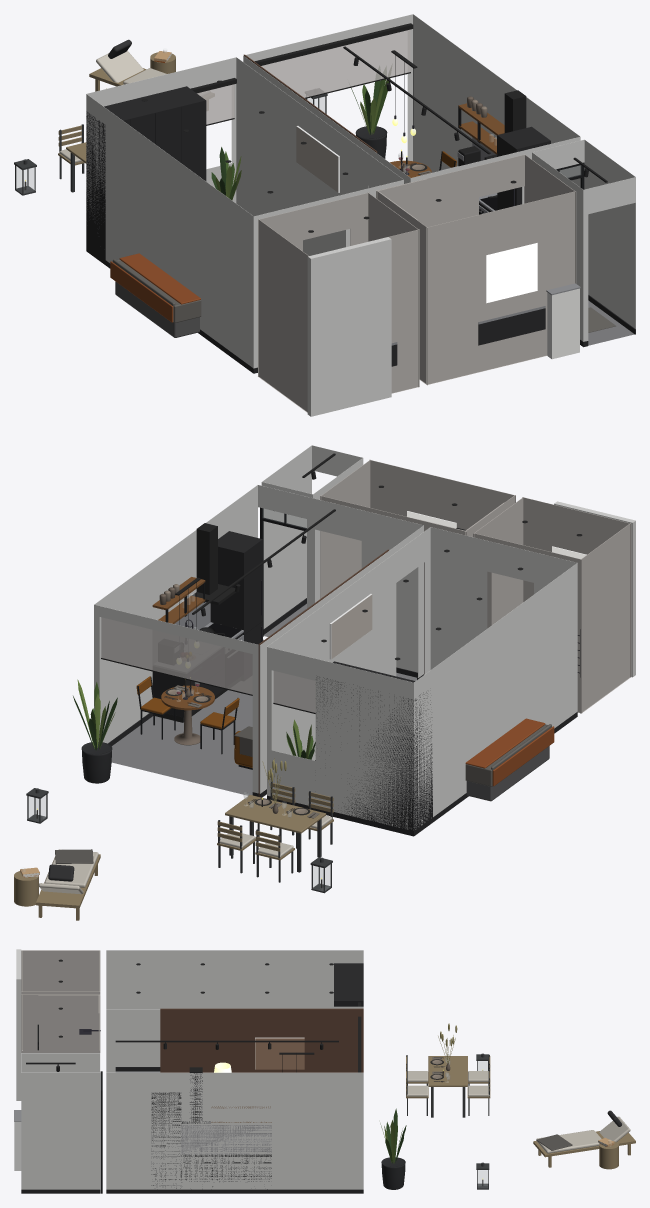
File: unit-0.A-urban.glb
3 views of the same model, one above another, from view 1: azimuth 30°, elevation 25°; view 2: azimuth 150°, elevation 25°; view 3: azimuth 270°, elevation 25° (orthographic). The views are drawn at different scales.
Parts seen in each view (by area): view 1: int-wall, int-bathWall, int-joineryTall, int-sheer, int-matteBlack, int-ledStrip, int-bedThrow, int-whiteGloss, int-art:7:0, int-teak, int-outCushion, int-wood (+13 smaller); view 2: int-wall, int-bathWall, int-joineryTall, int-floor, int-sheer, int-teak, int-matteBlack, int-outdoor, int-bedThrow, int-skirting, int-wood, int-outCushion (+12 smaller); view 3: int-wall, int-feature, int-bathWall, int-showerWall, int-teak, int-joineryTall, int-outCushion, int-skirting, int-splash, int-art:3:2, int-matteBlack, int-joinery (+6 smaller).
Boxes of the visible parts, x1,y1,x2,y2 form: int-wall: [86, 14, 635, 416]; int-bathWall: [258, 154, 576, 411]; int-joineryTall: [86, 86, 550, 366]; int-sheer: [197, 29, 410, 124]; int-matteBlack: [190, 23, 588, 198]; int-ledStrip: [486, 243, 537, 303]; int-bedThrow: [110, 253, 200, 322]; int-whiteGloss: [547, 288, 579, 359]; int-art:7:0: [296, 126, 338, 192]; int-teak: [58, 52, 175, 165]; int-outCushion: [59, 50, 166, 162]; int-wood: [390, 103, 504, 177]; int-wall: [94, 445, 635, 830]; int-bathWall: [320, 459, 631, 713]; int-joineryTall: [210, 531, 432, 835]; int-floor: [111, 639, 416, 795]; int-sheer: [101, 617, 315, 712]; int-teak: [14, 783, 333, 920]; int-matteBlack: [101, 471, 316, 722]; int-outdoor: [26, 781, 332, 893]; int-bedThrow: [465, 718, 554, 786]; int-skirting: [108, 598, 577, 836]; int-wood: [152, 577, 214, 710]; int-outCushion: [38, 815, 332, 894]; int-wall: [16, 949, 363, 1189]; int-feature: [160, 1008, 363, 1072]; int-bathWall: [21, 950, 100, 1052]; int-showerWall: [38, 995, 100, 1050]; int-teak: [406, 1056, 635, 1169]; int-joineryTall: [151, 963, 363, 1193]; int-outCushion: [406, 1071, 630, 1153]; int-skirting: [21, 1067, 363, 1193]; int-splash: [181, 1125, 271, 1152]; int-art:3:2: [255, 1038, 304, 1069]; int-matteBlack: [56, 1002, 361, 1193]; int-joinery: [181, 1154, 271, 1186].
Bounding box in the file's own units: 6.37 × 2.82 × 12.54.
